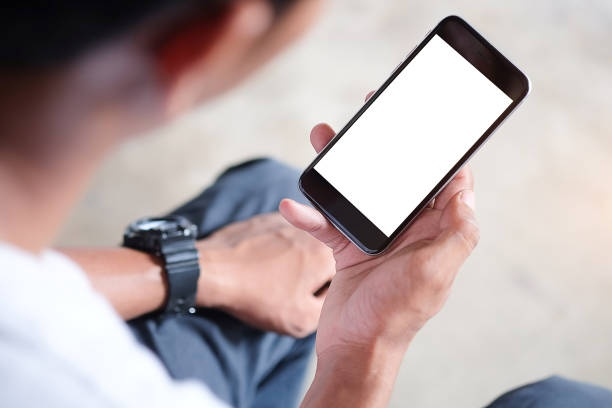phone: (294, 15, 532, 258)
